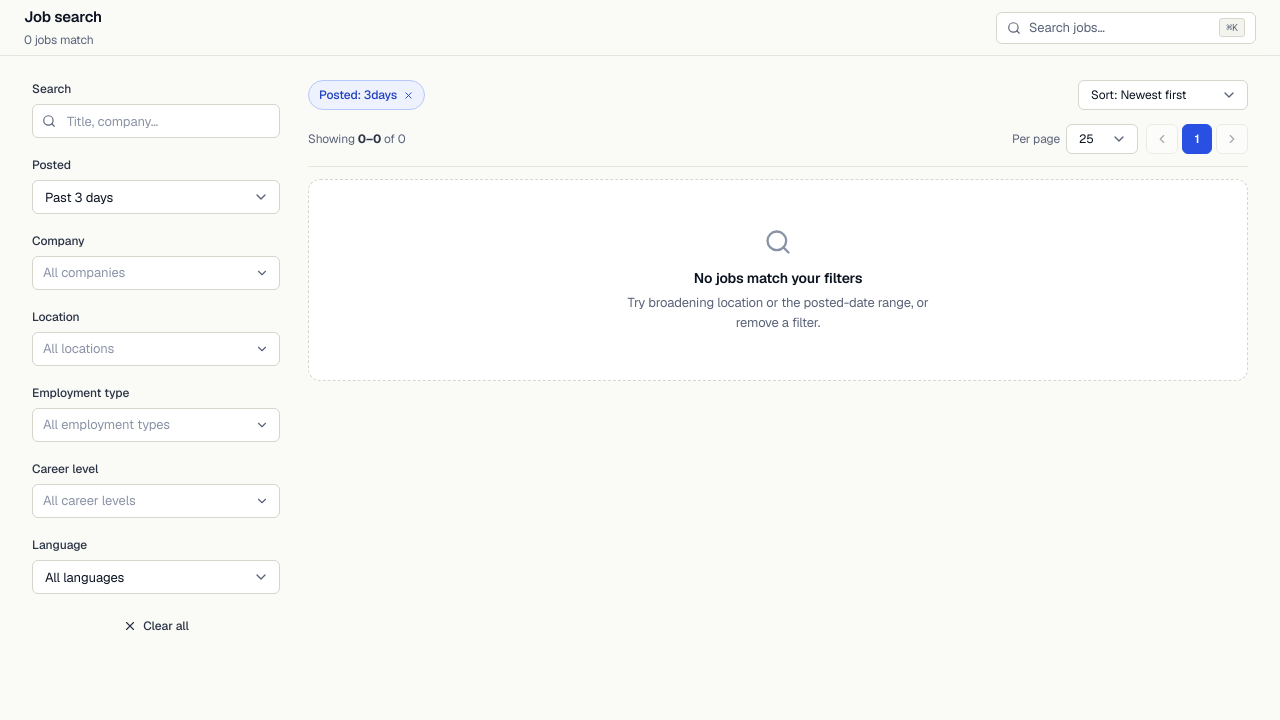
it: JobSearchScreen employment-type and career-level filters › FE-EMP-09 Career Level MultiSelect renders options and humanised labels
Expected: the text "Career level" is shown, [32,461,98,477]
// Open the Career Level multiselect
Click the text "All career levels" at (89, 501), box [43,492,136,509]
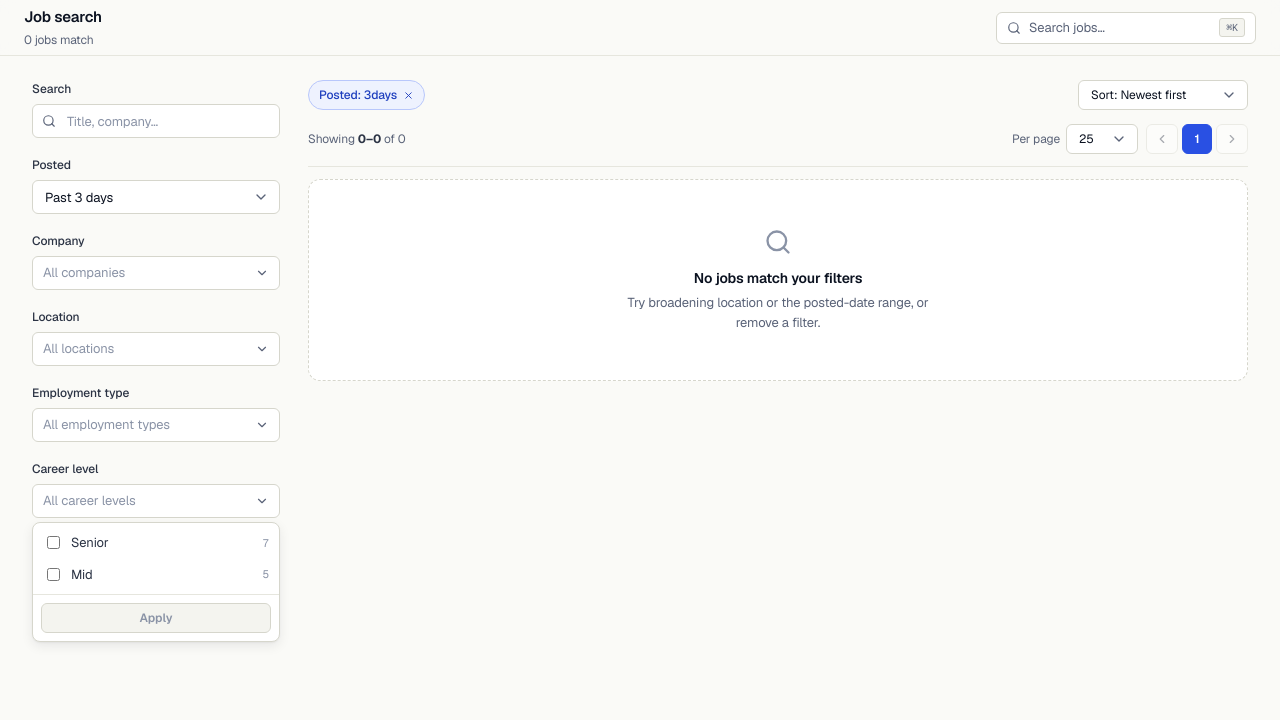
Now the text "Senior" is shown, box [71,534,108,551]
Now the text "Mid" is shown, box [71,566,92,582]
Now the text "7" is shown, box [262,534,269,551]
